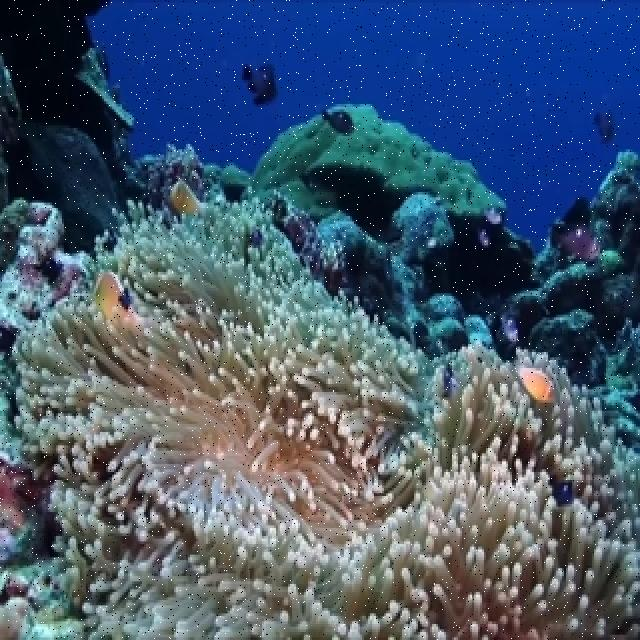fish: (102, 274, 177, 341), (544, 198, 591, 245), (160, 185, 208, 220), (499, 361, 545, 397), (235, 57, 273, 98), (593, 103, 621, 138)
reefs: (12, 186, 638, 637)
sea-floor: (0, 0, 638, 637)
